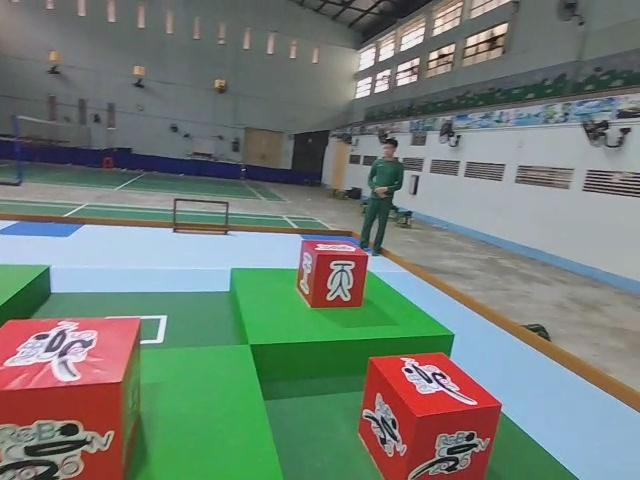R1: (0, 319, 141, 480), (357, 351, 503, 479)
R2 Fake: (297, 238, 368, 310)
